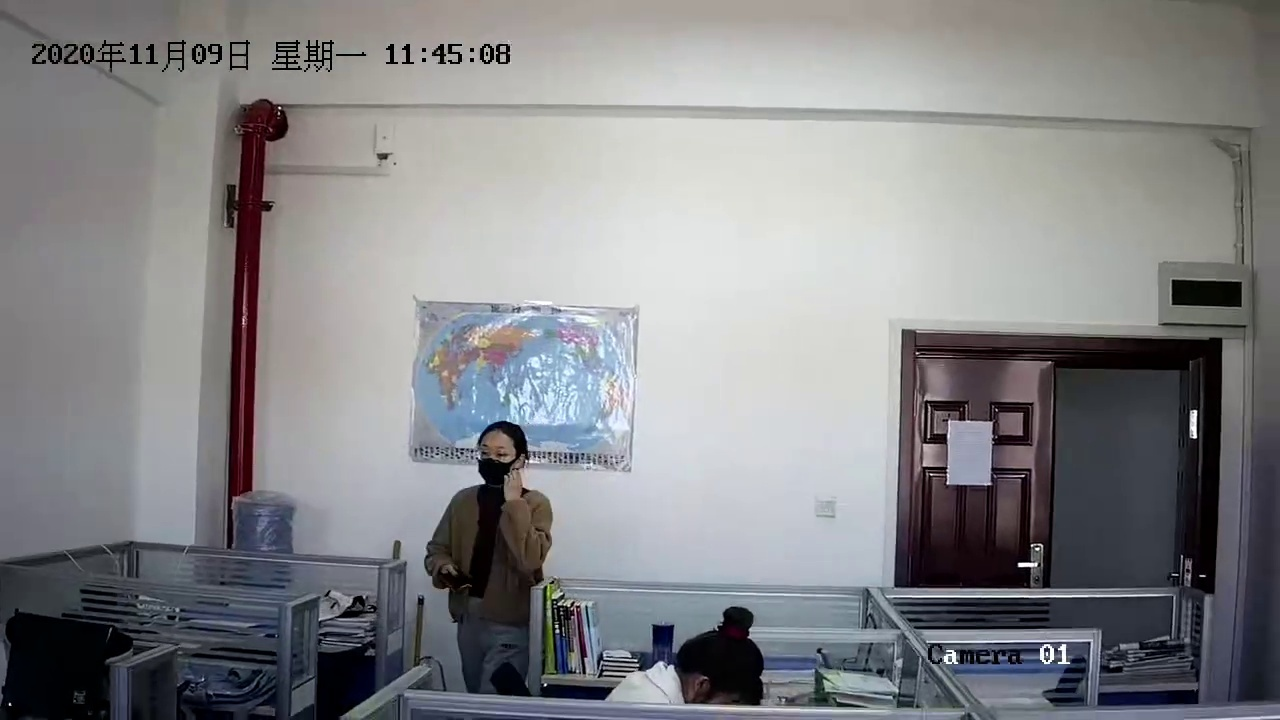mask: (474, 427, 526, 488)
